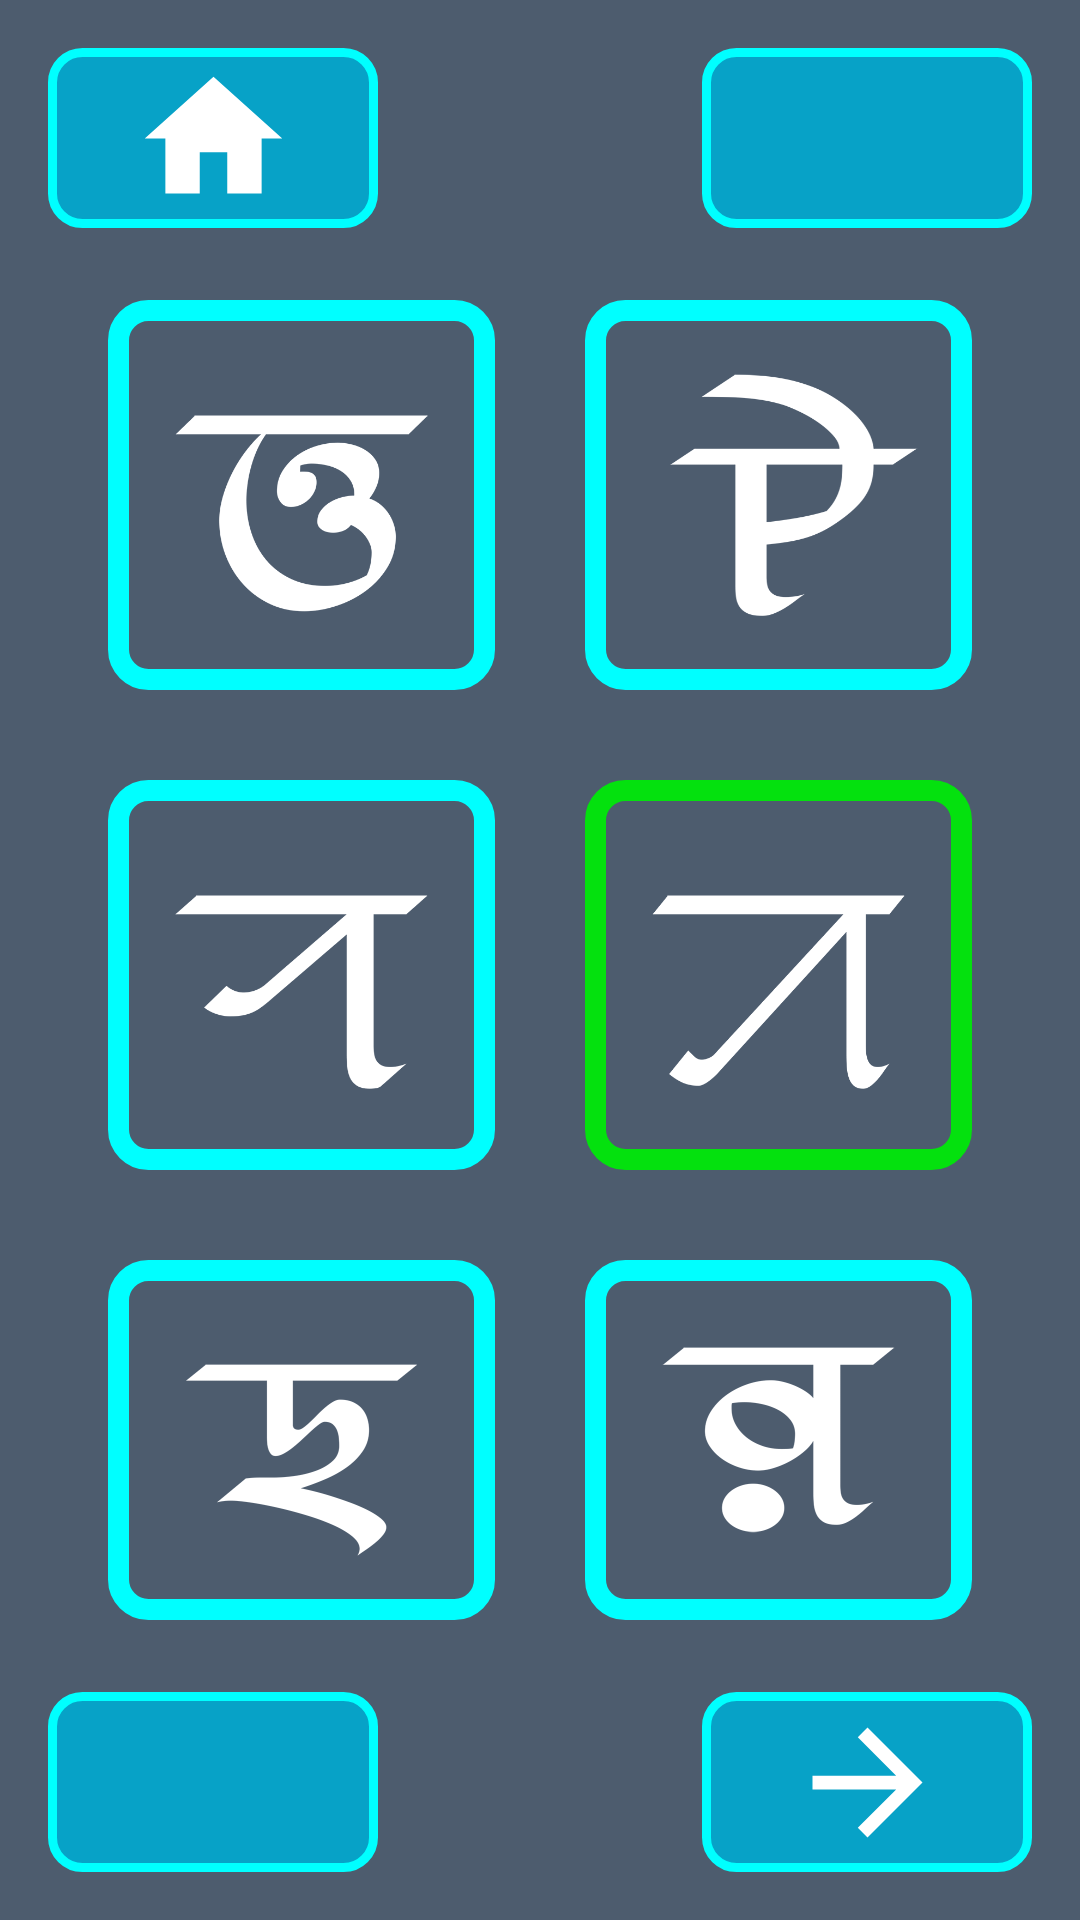

Icons on this 1080×1920 Android screen, each with the point to tap as [x,y]:
arrow forward: [867,1782]
home: [213,138]
